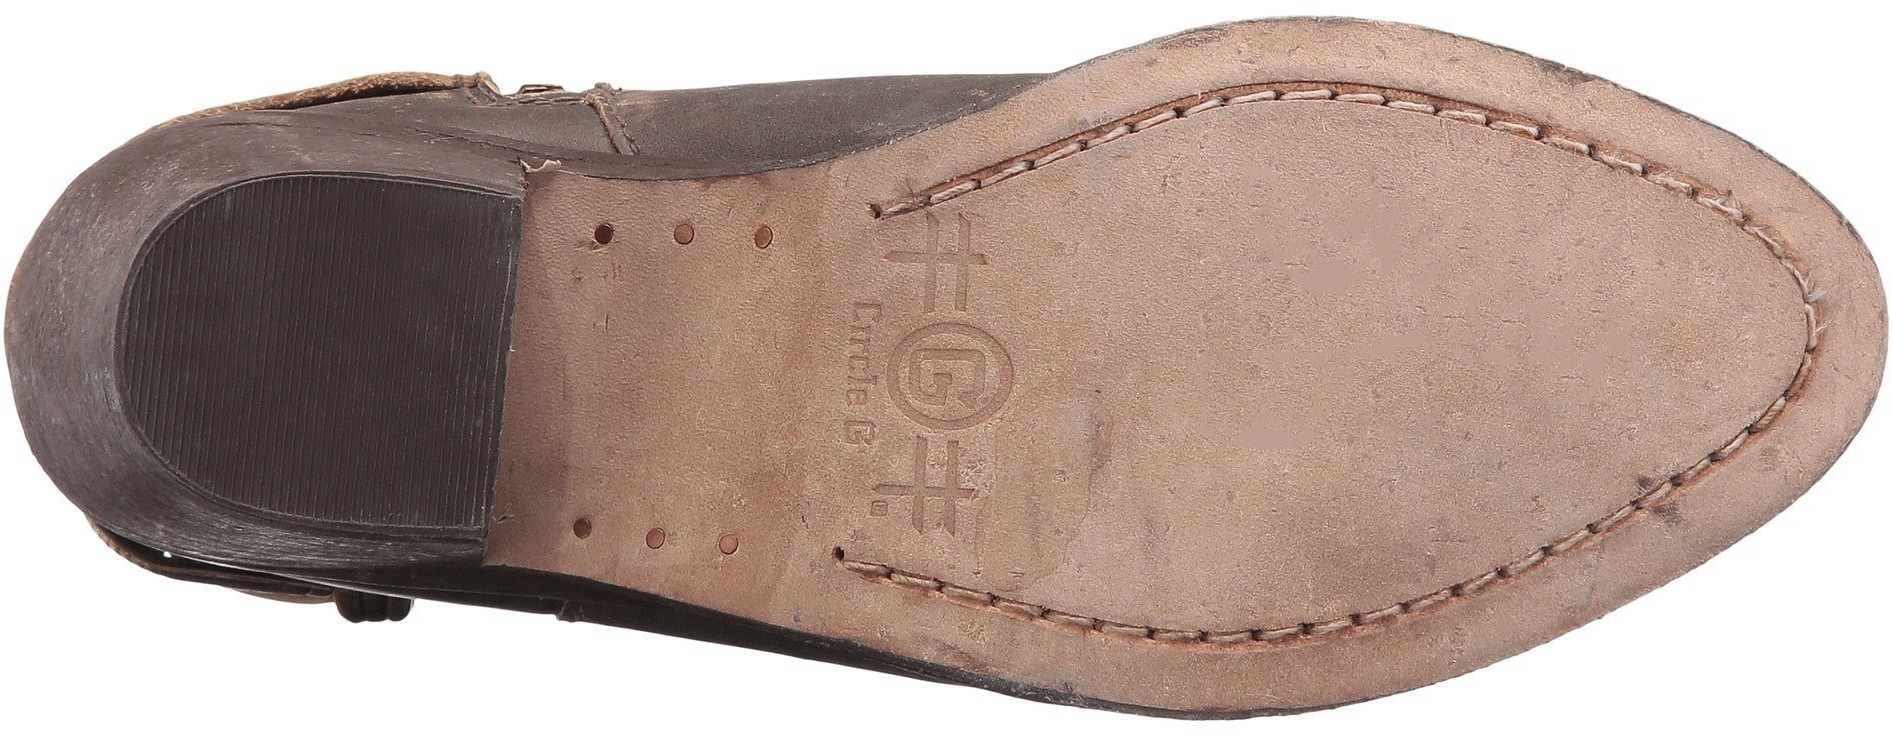other: (226, 203, 490, 490)
text: (901, 329, 1002, 420)
